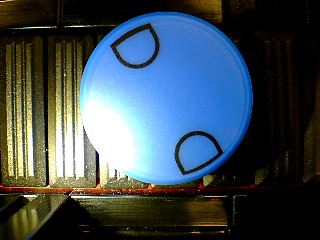MIPO2: (78, 11, 254, 184)
